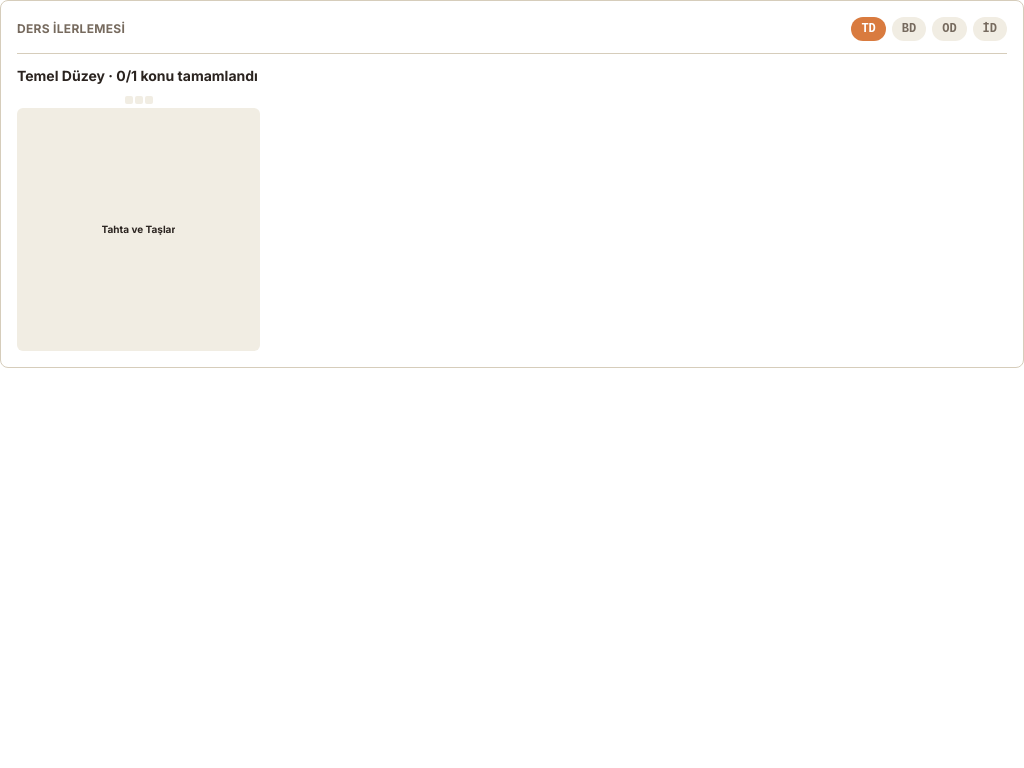
Test: LessonProgressCard — Sporcu Profili Ders İlerlemesi + Ödevlerim (madde 2026-09-05) › madde 2026-09-06 (Görsel 6): "Süreli Pratik Yap" seçilince Günlük/Haftalık/Aylık/Yıllık tablosu gösterilir
Click the button with aria-label "1. konu: Tahta ve Taşlar".
click(138, 230)  # box [17,108,260,351]
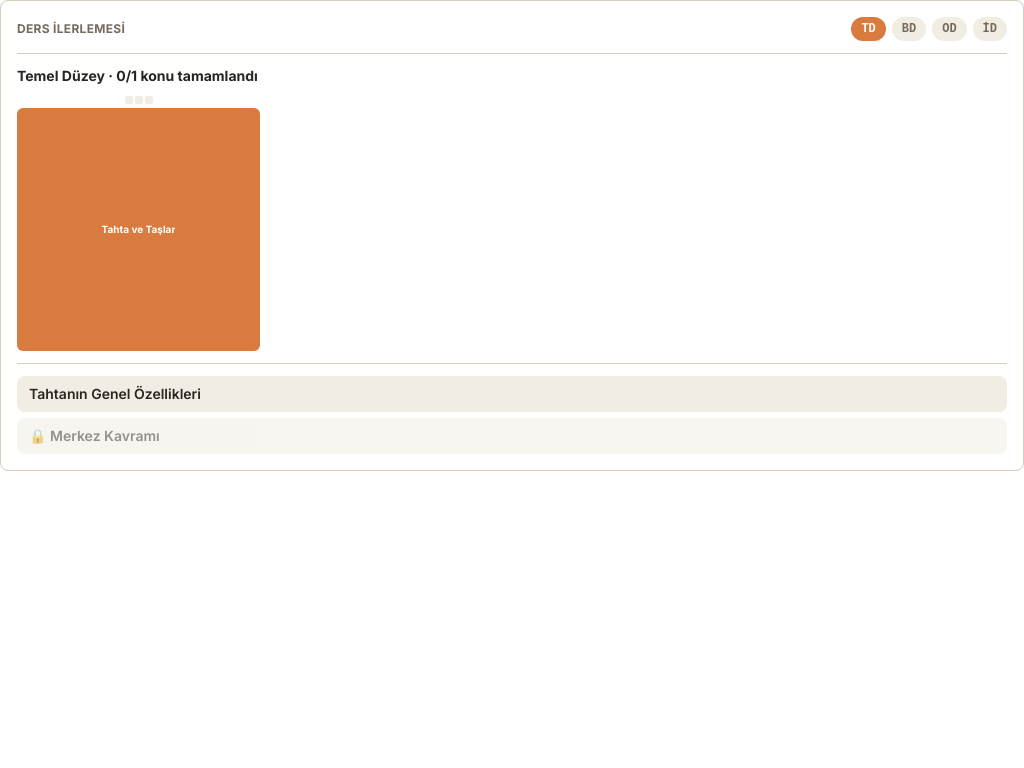
Now the button "Tahtanın Genel Özellikleri" is shown
Click the button "Tahtanın Genel Özellikleri".
click(115, 394)  # box [17,376,1007,412]
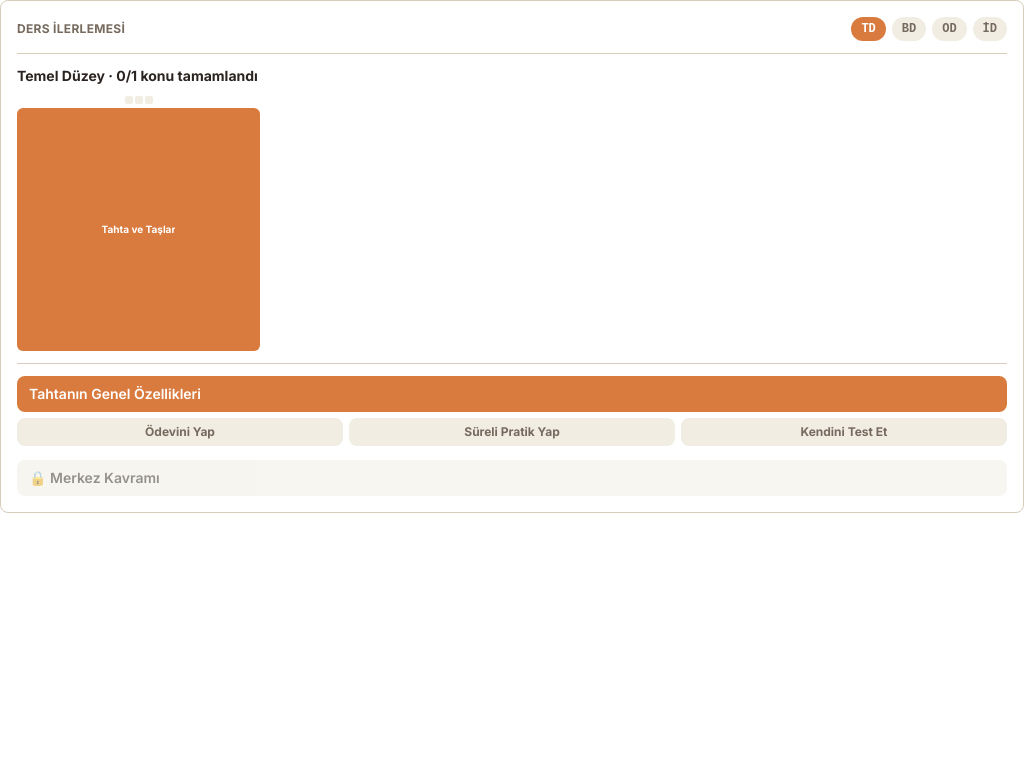
Click the button "Süreli Pratik Yap".
click(512, 432)  # box [349,418,675,446]
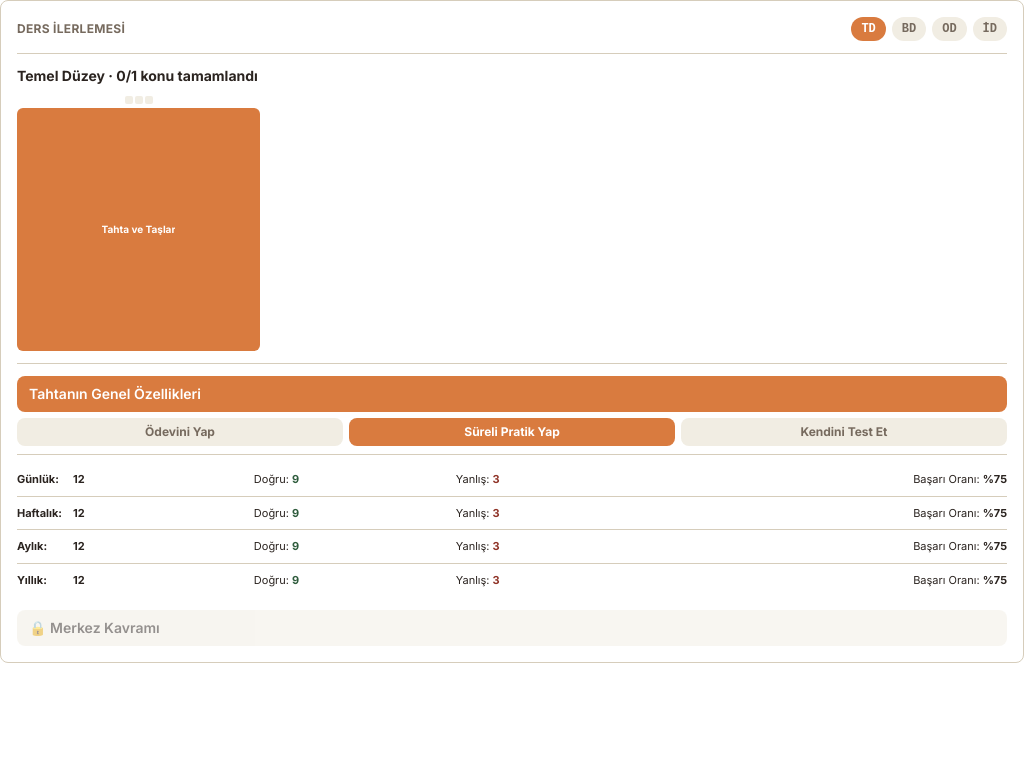
Now the text "Günlük:" is shown, box [17,472,59,486]
Now the text "Haftalık:" is shown, box [17,504,69,521]
Now the text "Aylık:" is shown, box [17,539,47,553]
